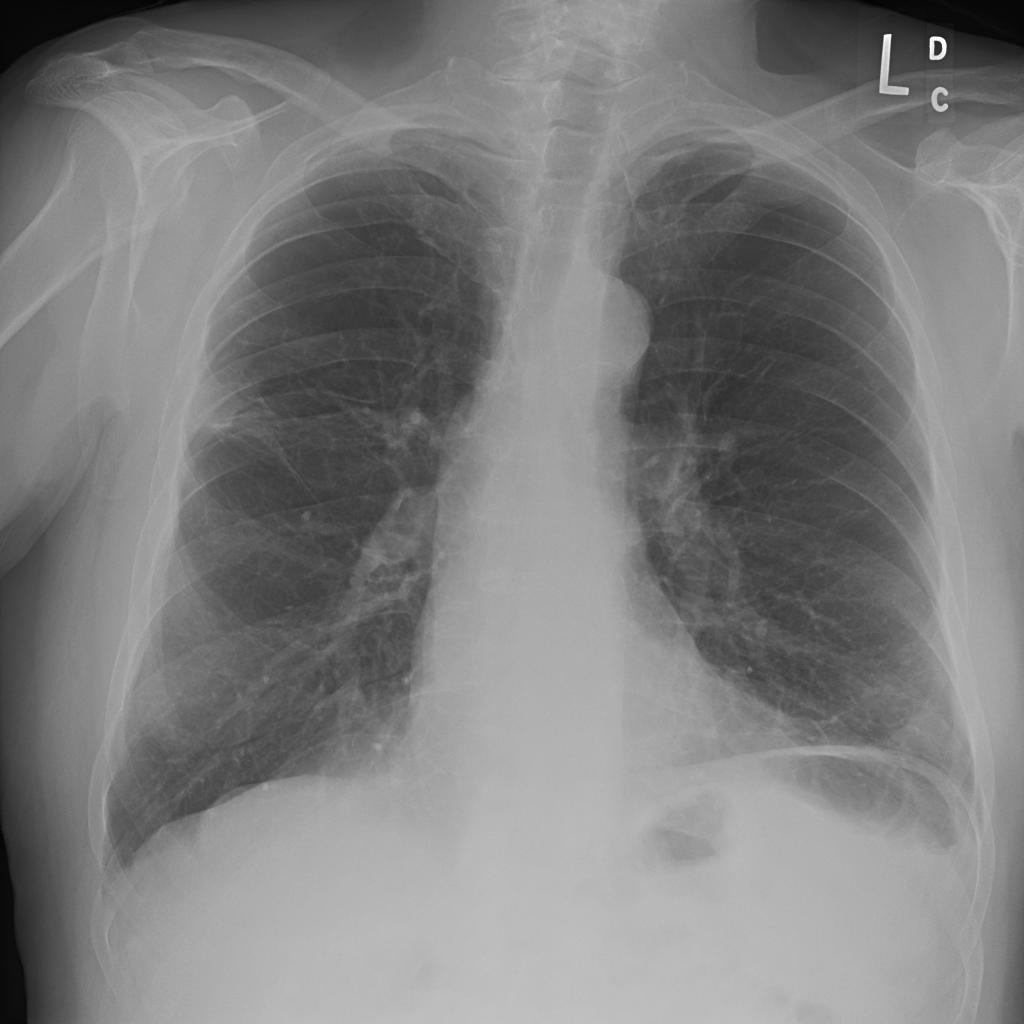Nodule: (299, 356, 357, 400)
